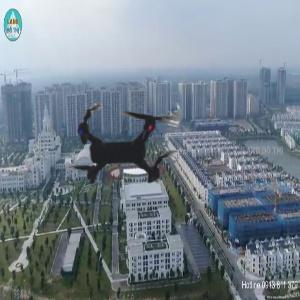drone: (33, 52, 216, 235)
